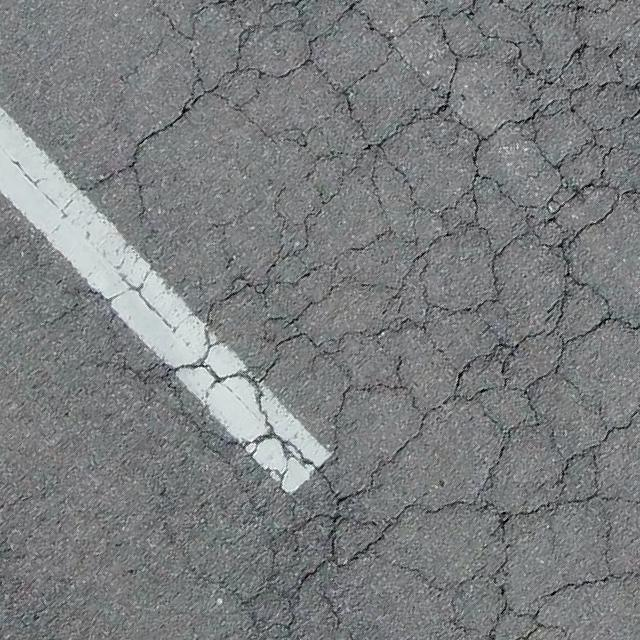PIEL DE COCODRILO: (8, 0, 639, 639)
